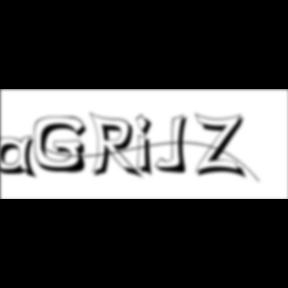G: (34, 116, 94, 176)
J: (154, 114, 194, 176)
R: (90, 112, 146, 182)
Z: (195, 112, 250, 181)
a: (0, 135, 42, 182)
i: (136, 112, 160, 180)
